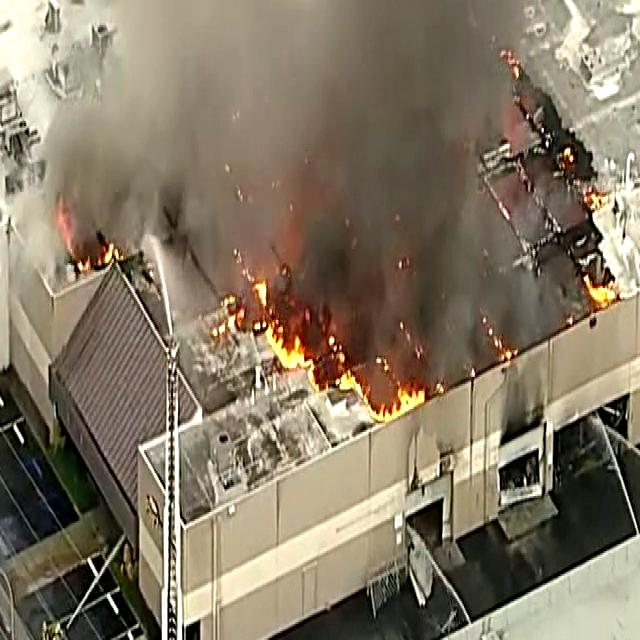smoke: (131, 0, 385, 320)
